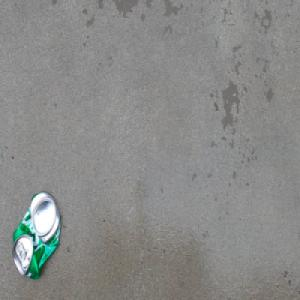SodaCan: (11, 189, 61, 282)
